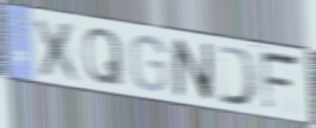D: (215, 42, 261, 110)
F: (258, 49, 303, 115)
G: (128, 33, 170, 94)
N: (171, 36, 215, 105)
Q: (82, 26, 126, 89)
X: (31, 14, 86, 85)
